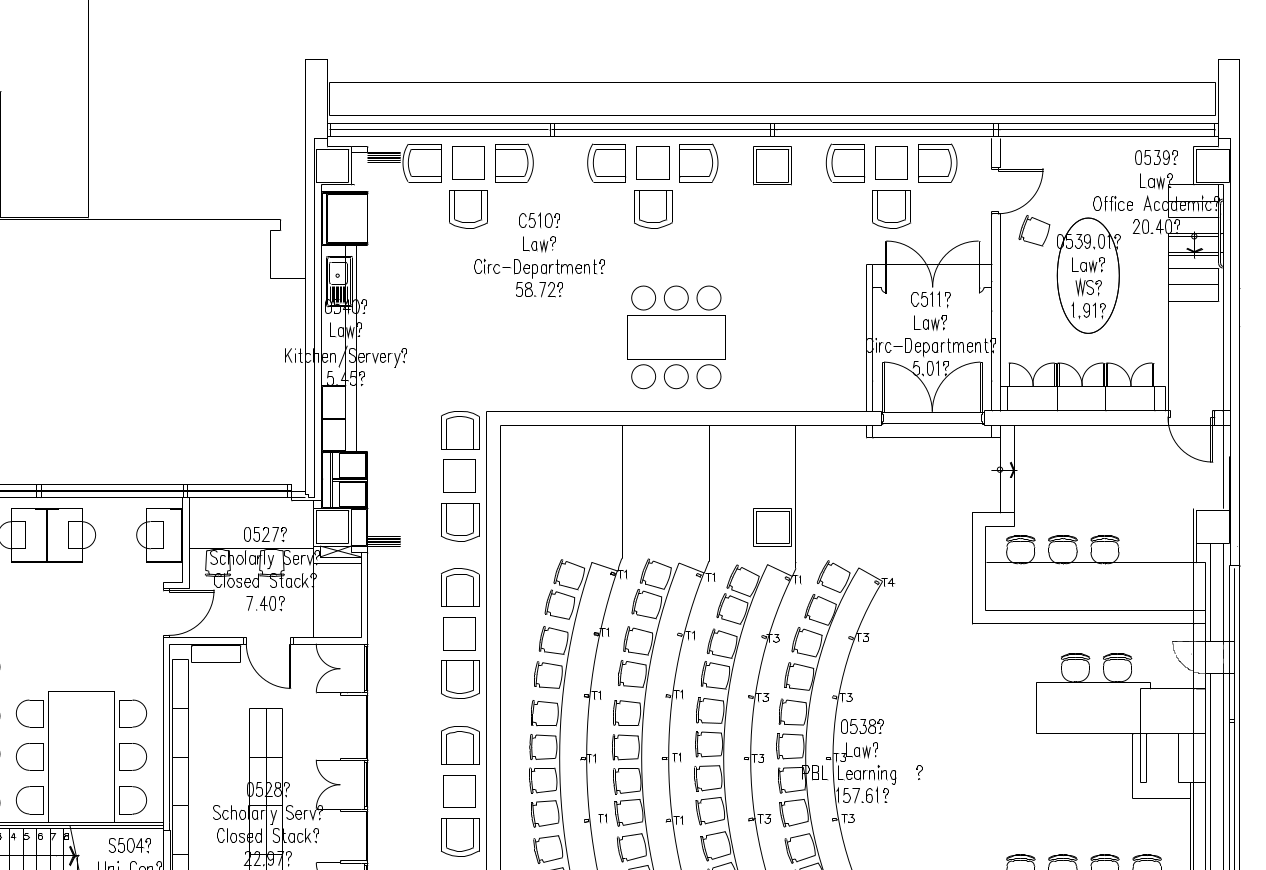door: (241, 630, 292, 696), (1163, 406, 1214, 470), (883, 232, 934, 296), (933, 231, 984, 295), (932, 352, 983, 416), (882, 352, 933, 416), (163, 586, 218, 638), (998, 162, 1048, 213), (1005, 356, 1034, 399), (1031, 354, 1060, 397), (1104, 358, 1132, 393), (1127, 355, 1155, 390)
